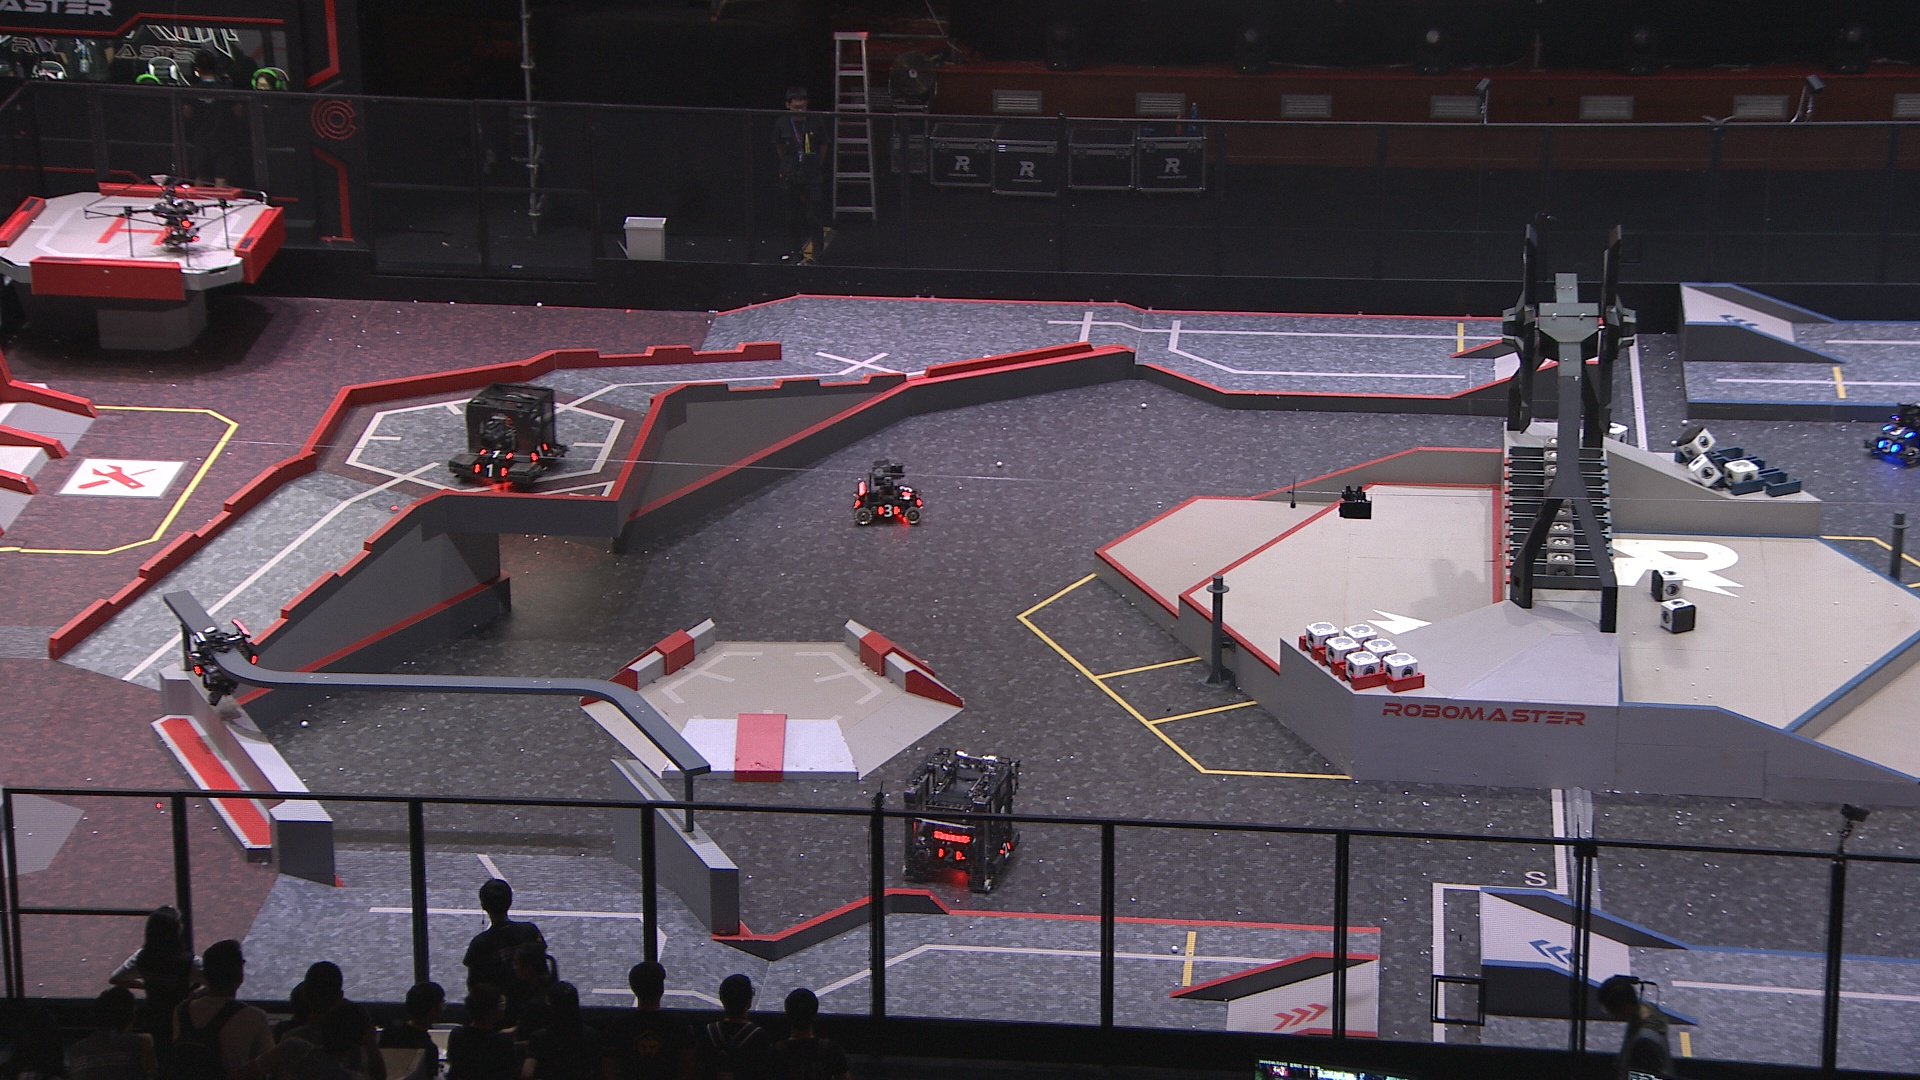armor: (471, 462, 506, 480), (934, 847, 967, 864), (529, 439, 550, 462), (185, 651, 200, 679), (480, 448, 513, 460), (877, 502, 901, 518), (1884, 423, 1909, 438), (1878, 438, 1898, 454), (997, 840, 1013, 858), (851, 493, 860, 513), (901, 481, 913, 496)
car: (899, 746, 1025, 891), (448, 378, 570, 491), (847, 455, 920, 529), (1866, 401, 1920, 471)
watcher: (179, 616, 262, 707)
